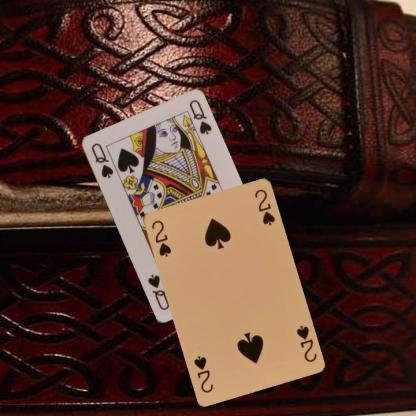2s: (293, 322, 318, 364), (149, 218, 172, 258)
Qs: (88, 140, 114, 179)
